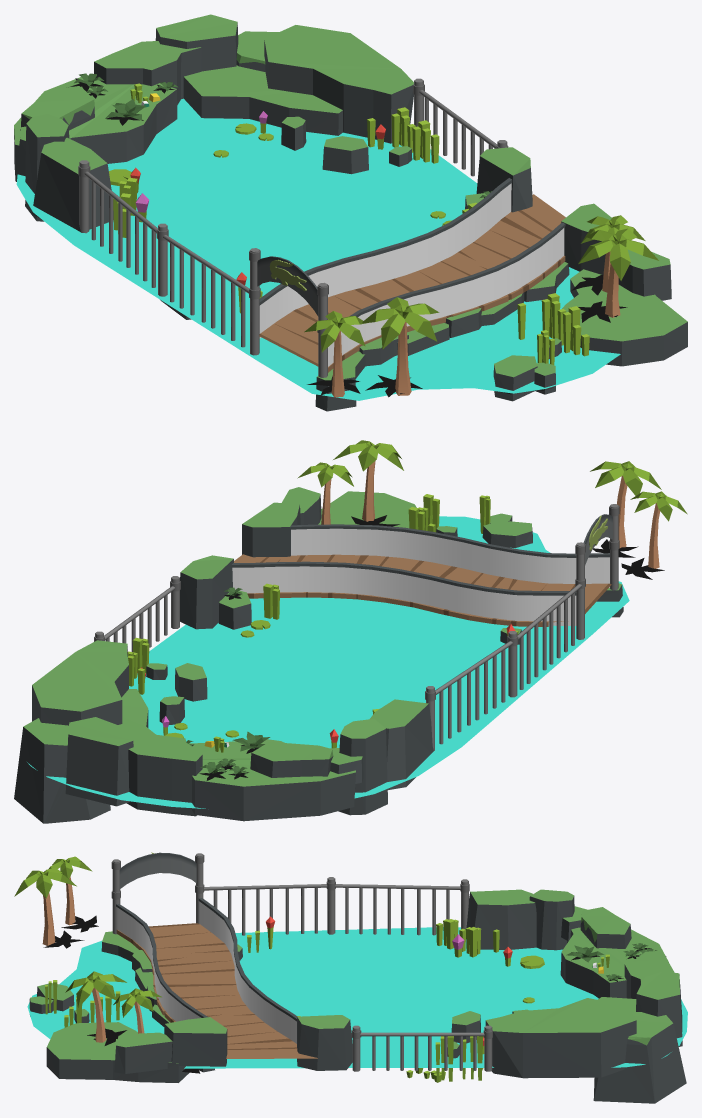
Rendered from xweilan_1005_3.FBX.
3 renders of one model, top to bottom at view 1: azimuth 30°, elevation 25°; view 2: azimuth 150°, elevation 25°; view 3: azimuth 270°, elevation 25°, orthographic. The views are drawn at different scales.
Visible parts, largest first — view 1: xweilan_1005_3; view 2: xweilan_1005_3; view 3: xweilan_1005_3.
Boxes of the visible parts, box(x1,y1,x2,y2) form: xweilan_1005_3: box(14, 14, 687, 411); xweilan_1005_3: box(14, 440, 687, 823); xweilan_1005_3: box(14, 852, 687, 1103).
Size of the model in its own units: 4491 by 1729 by 8431.
